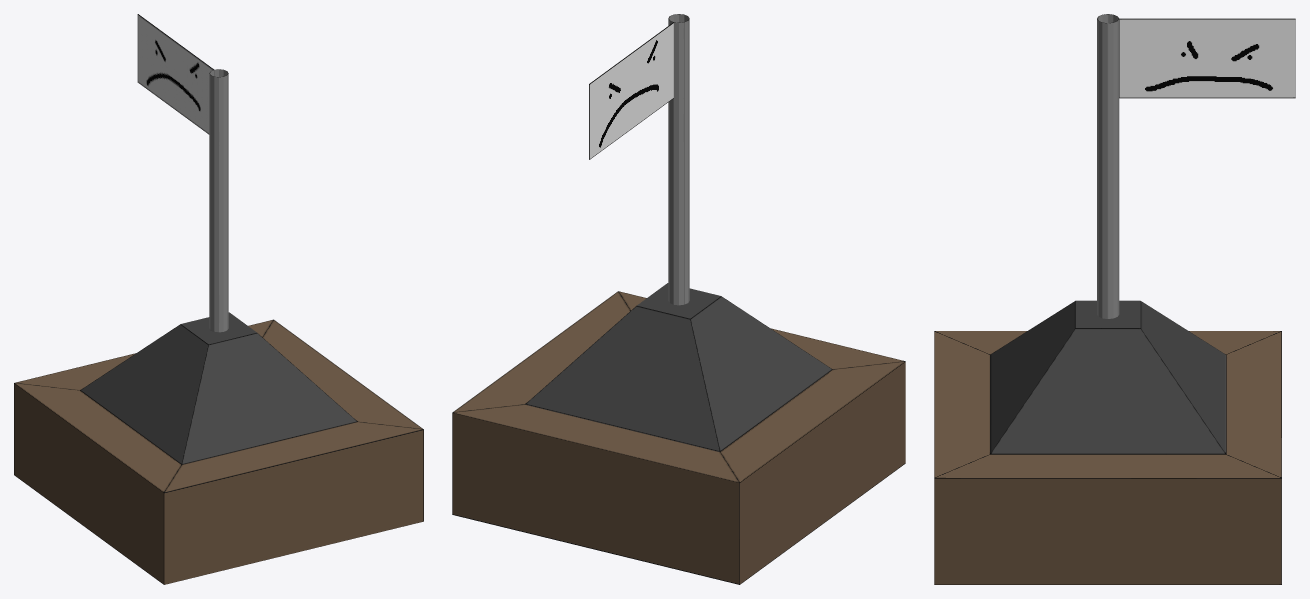
File: badflagpole.obj
3 renders of one model, left to right at view 1: azimuth 30°, elevation 25°; view 2: azimuth 150°, elevation 25°; view 3: azimuth 270°, elevation 25°, orthographic. The views are drawn at different scales.
Visible parts, largest first — view 1: Cube; view 2: Cube; view 3: Cube.
Part boxes in pixels (bbox=[...]): Cube: bbox=[14, 14, 423, 584]; Cube: bbox=[452, 14, 905, 584]; Cube: bbox=[934, 14, 1295, 584].
Size of the model in its own units: 2 by 3.13 by 2.08.
